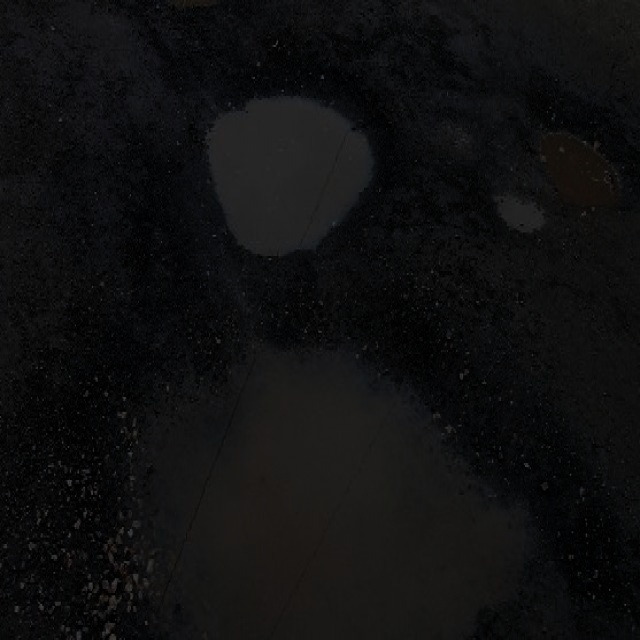Pothole: (91, 286, 604, 638), (190, 58, 388, 260), (524, 92, 639, 214), (492, 182, 547, 236)
